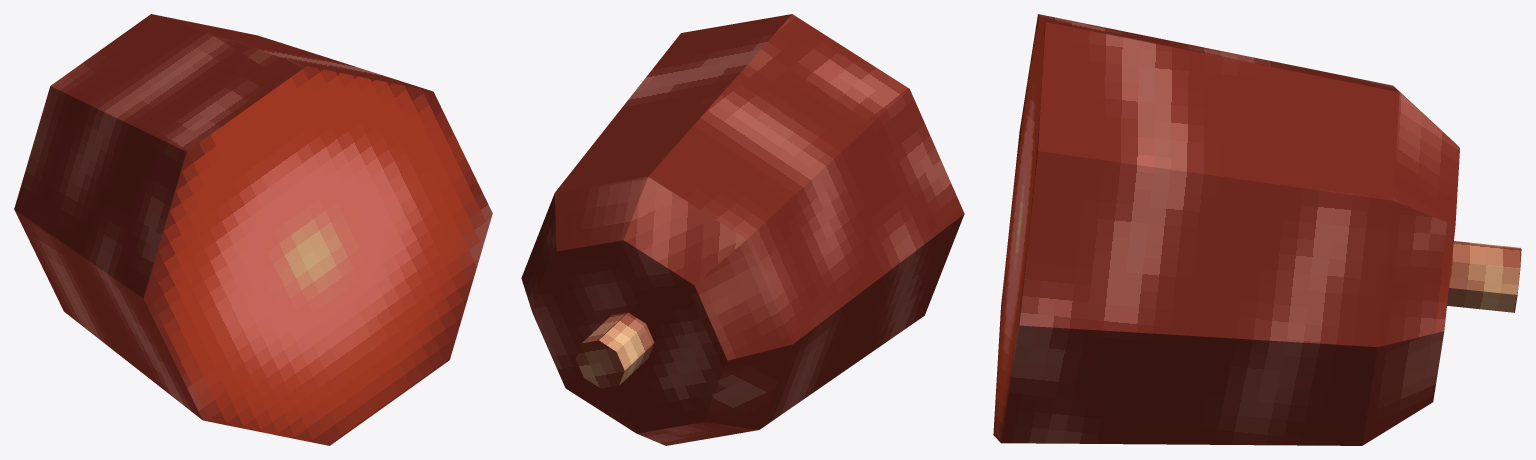
File: roast_on_bone.glb
The picture shows the model from 3 angles, left to right: view 1: azimuth 30°, elevation 25°; view 2: azimuth 150°, elevation 25°; view 3: azimuth 270°, elevation 25°; orthographic projection. The views are drawn at different scales.
Parts seen in each view (by area): view 1: Cylinder.002; view 2: Cylinder.002; view 3: Cylinder.002.
Part boxes in pixels (<box>): Cylinder.002: <box>14,14,492,445</box>; Cylinder.002: <box>521,14,964,445</box>; Cylinder.002: <box>993,14,1521,445</box>.
Bounding box in the file's own units: 3.66 × 3.68 × 4.22.
1 material, 1 textured.
